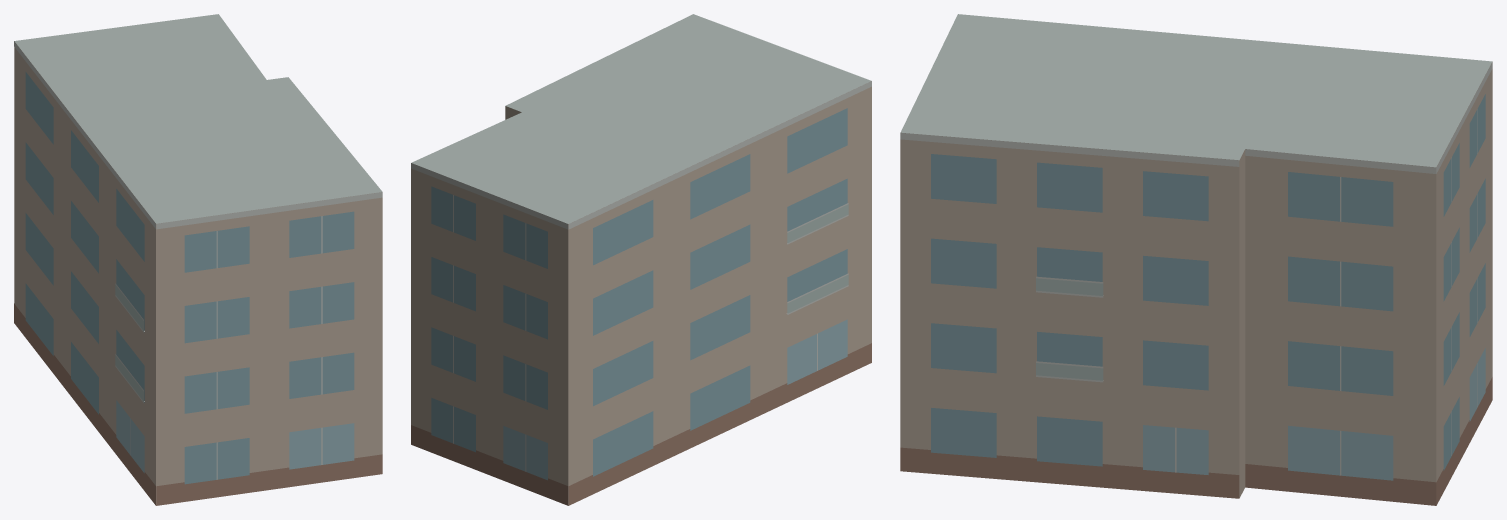
File: survey-upis-32670979.glb
The picture shows the model from 3 angles, left to right: view 1: azimuth 30°, elevation 25°; view 2: azimuth 150°, elevation 25°; view 3: azimuth 270°, elevation 25°; orthographic projection. The views are drawn at different scales.
Parts seen in each view (by area): view 1: survey-upis-32670979.tmp; view 2: survey-upis-32670979.tmp; view 3: survey-upis-32670979.tmp.
Part boxes in pixels (box(x1,y1,x2,y2)): survey-upis-32670979.tmp: box(14, 14, 382, 505); survey-upis-32670979.tmp: box(411, 14, 871, 505); survey-upis-32670979.tmp: box(900, 14, 1492, 505).
Size of the model in its own units: 11.86 by 12.2 by 19.35.
